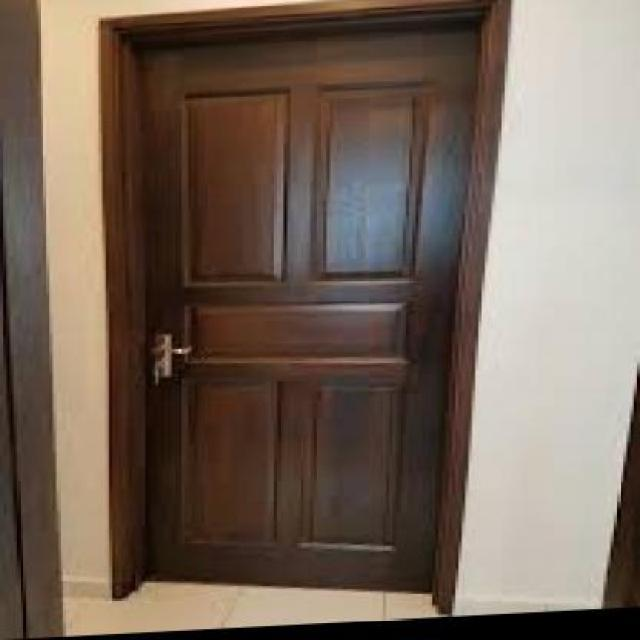door: (133, 14, 484, 592)
